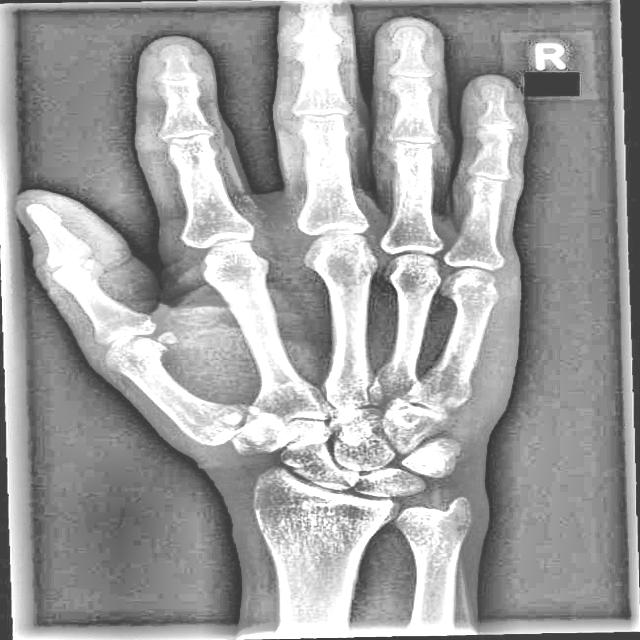fracture: (212, 400, 271, 434), (70, 258, 102, 283), (389, 401, 417, 414)
